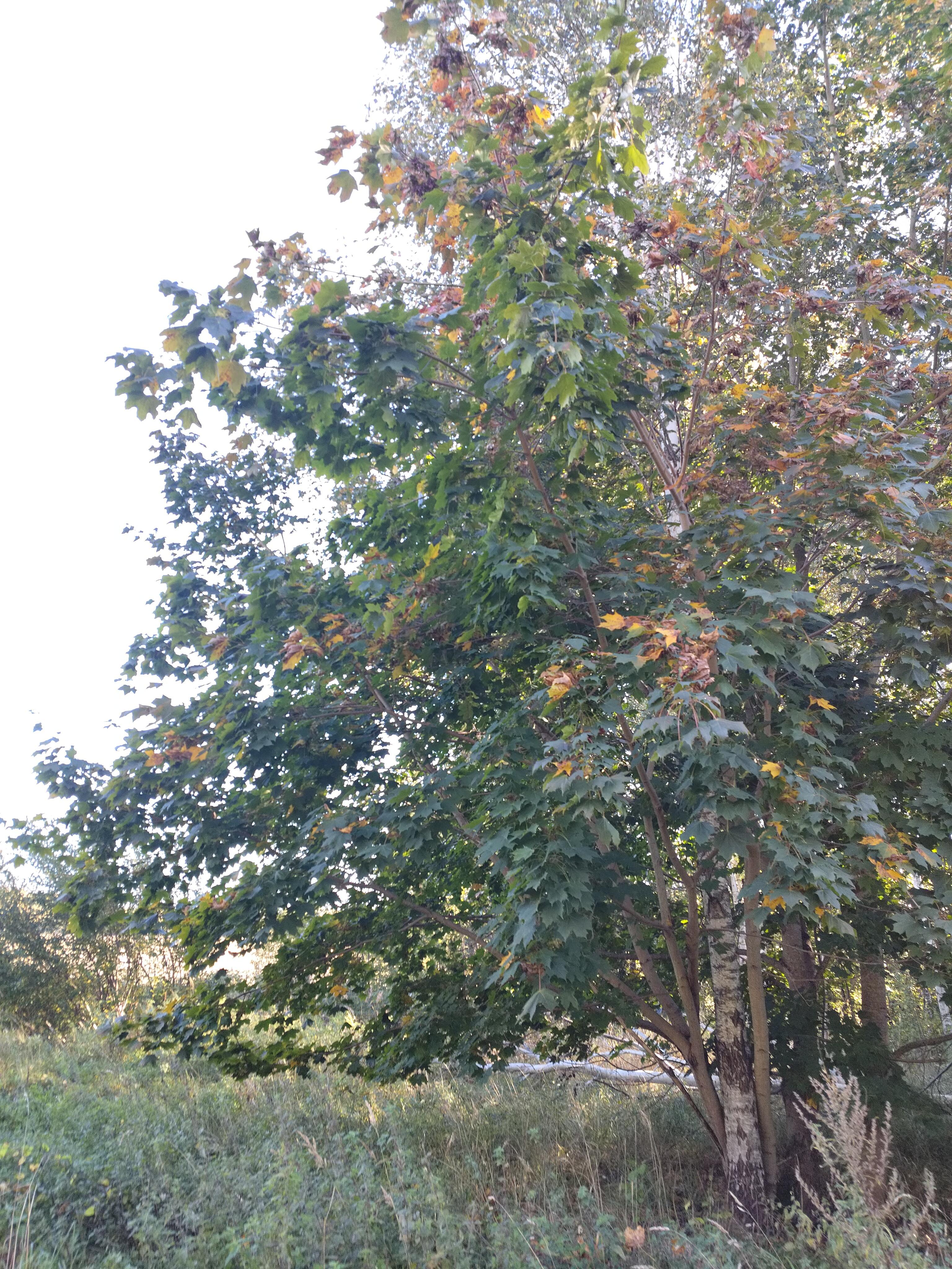Maple: (0, 1, 950, 1134)
